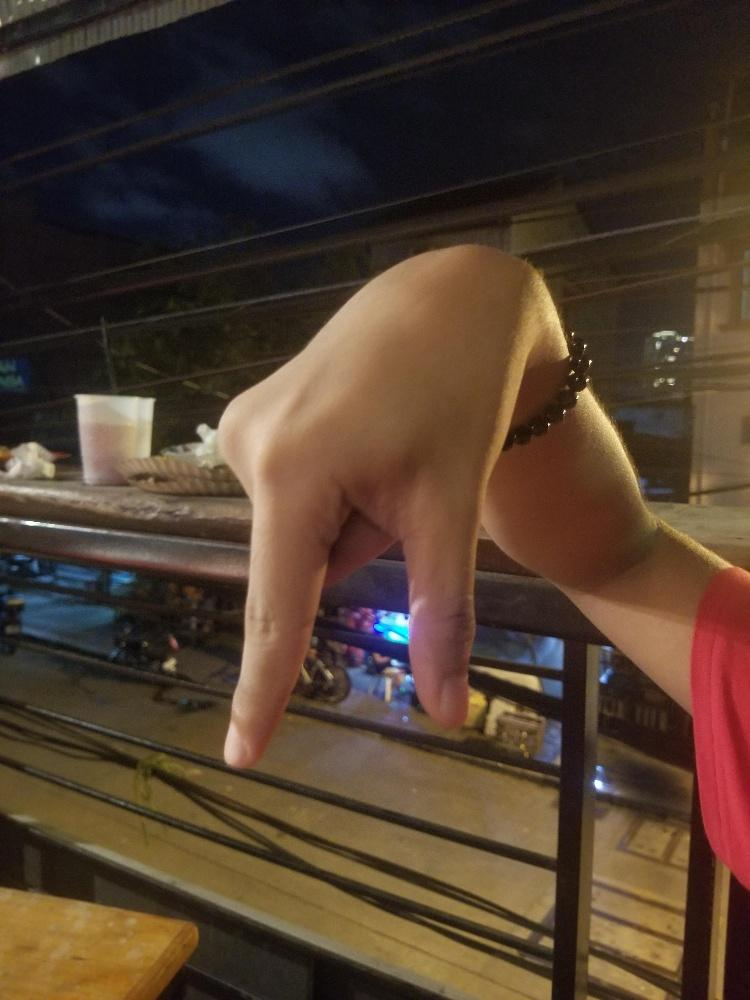q: (217, 236, 540, 771)
